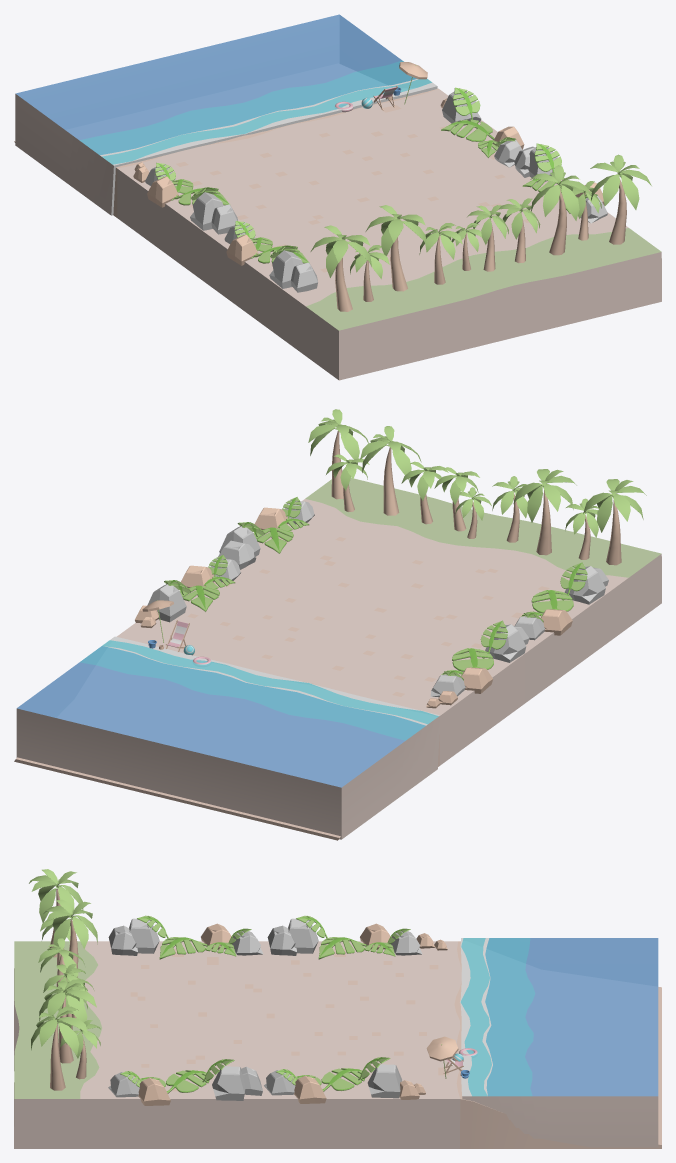
The model's file is archero total (2).fbx.
The picture shows the model from 3 angles, top to bottom: view 1: azimuth 30°, elevation 25°; view 2: azimuth 150°, elevation 25°; view 3: azimuth 270°, elevation 25°; orthographic projection.
Visible parts, largest first — view 1: beach, beach2, beach_tree_decor_7 (×2), beach_tree_decor_5 (×2), pCube2 (×3), beach_tree_decor_9 (×2), beach_tree_decor_10 (×2), beach_tree_decor_6 (×2), pCube4 (×2), pCube1 (×2), leaf3 (×2), leaf; view 2: beach, beach2, beach_tree_decor_7 (×2), beach_tree_decor_5 (×2), pCube2 (×3), beach_tree_decor_9 (×2), beach_tree_decor_6 (×2), beach_tree_decor_10 (×2), leaf (×2), pCube4 (×2), pCube1; view 3: beach, beach2, pCube2 (×4), beach_tree_decor_5 (×2), beach_tree_decor_7 (×2), leaf (×4), pCube4 (×4), pCube3 (×4), pCube1 (×3), beach_tree_decor_6, beach_tree_decor_9, Umbrella (+1 smaller).
Part boxes in pixels (<box>): beach: <box>14,64,661,380</box>; beach2: <box>15,14,437,215</box>; beach_tree_decor_7 (×2): <box>365,165,591,291</box>; beach_tree_decor_5 (×2): <box>310,154,651,311</box>; pCube2 (×3): <box>190,88,481,288</box>; beach_tree_decor_9 (×2): <box>419,198,540,284</box>; beach_tree_decor_10 (×2): <box>451,205,508,271</box>; beach_tree_decor_6 (×2): <box>350,181,601,301</box>; pCube4 (×2): <box>147,176,258,265</box>; pCube1 (×2): <box>211,204,317,292</box>; leaf3 (×2): <box>452,87,561,172</box>; leaf: <box>441,119,494,141</box>; beach: <box>14,478,661,840</box>; beach2: <box>16,636,440,839</box>; beach_tree_decor_7 (×2): <box>360,426,576,555</box>; beach_tree_decor_5 (×2): <box>308,409,646,565</box>; pCube2 (×3): <box>147,566,605,662</box>; beach_tree_decor_9 (×2): <box>401,461,527,542</box>; beach_tree_decor_6 (×2): <box>326,454,598,559</box>; beach_tree_decor_10 (×2): <box>434,467,491,538</box>; leaf (×2): <box>452,590,573,671</box>; pCube4 (×2): <box>461,609,572,693</box>; pCube1: <box>218,540,256,569</box>; beach: <box>14,941,661,1148</box>; beach2: <box>460,938,658,1147</box>; pCube2 (×4): <box>129,918,401,1100</box>; beach_tree_decor_5 (×2): <box>29,869,88,1090</box>; beach_tree_decor_7 (×2): <box>39,899,97,1063</box>; leaf (×4): <box>159,937,366,1093</box>; pCube4 (×4): <box>138,923,390,1105</box>; pCube3 (×4): <box>108,931,422,1097</box>; pCube1 (×3): <box>108,925,296,1095</box>; beach_tree_decor_6: <box>60,1020,100,1079</box>; beach_tree_decor_9: <box>38,938,84,986</box>; Umbrella: <box>426,1036,458,1078</box>.
Size of the model in its own units: 51.32 by 18.77 by 85.09.
